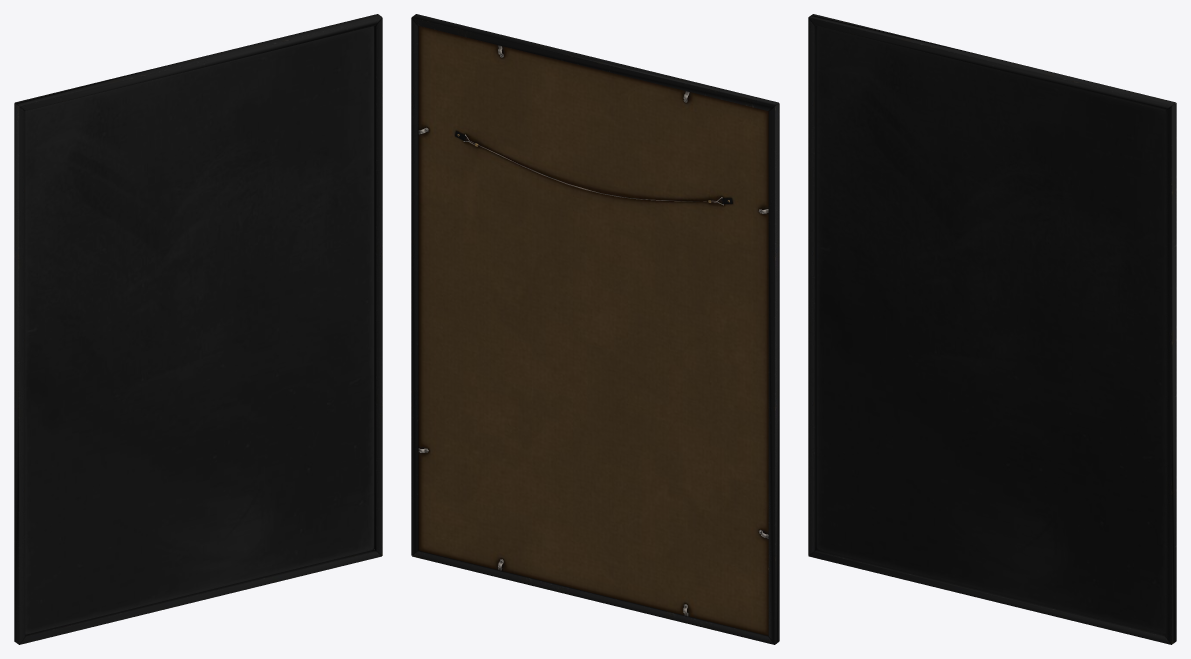
File: hanging_picture_frame_01.glb
The picture shows the model from 3 angles, left to right: view 1: azimuth 30°, elevation 25°; view 2: azimuth 150°, elevation 25°; view 3: azimuth 330°, elevation 25°; orthographic projection.
Visible parts, largest first — view 1: hanging_picture_frame_01; view 2: hanging_picture_frame_01; view 3: hanging_picture_frame_01.
Part boxes in pixels (x1,y1,x2,y2): hanging_picture_frame_01: [14, 14, 382, 644]; hanging_picture_frame_01: [411, 14, 779, 644]; hanging_picture_frame_01: [808, 14, 1176, 644].
Bounding box in the file's own units: 0.5938 × 0.8406 × 0.0154.
3 materials, 3 textured.
